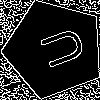U: (29, 24, 88, 74)
